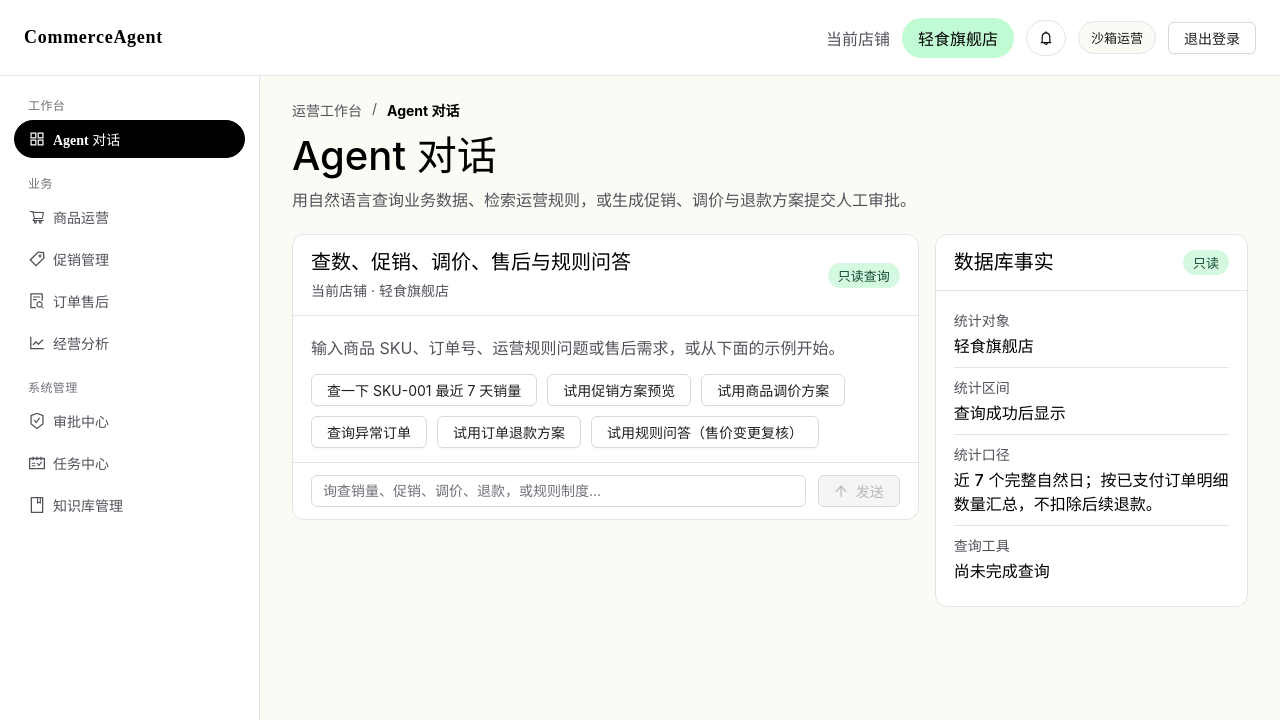
Test: 阶段 5A 调价审批闭环、经营分析与活动复盘 › previews price change plan in Agent workspace and confirms approval submission
The width and height of the screenshot is (1280, 720).
Type "把 SKU-001 常规售价调到 189 元，原因调整冬季常规售价" into the field named "输入查数问题". click: [558, 491]
box: [311,475,806,507]
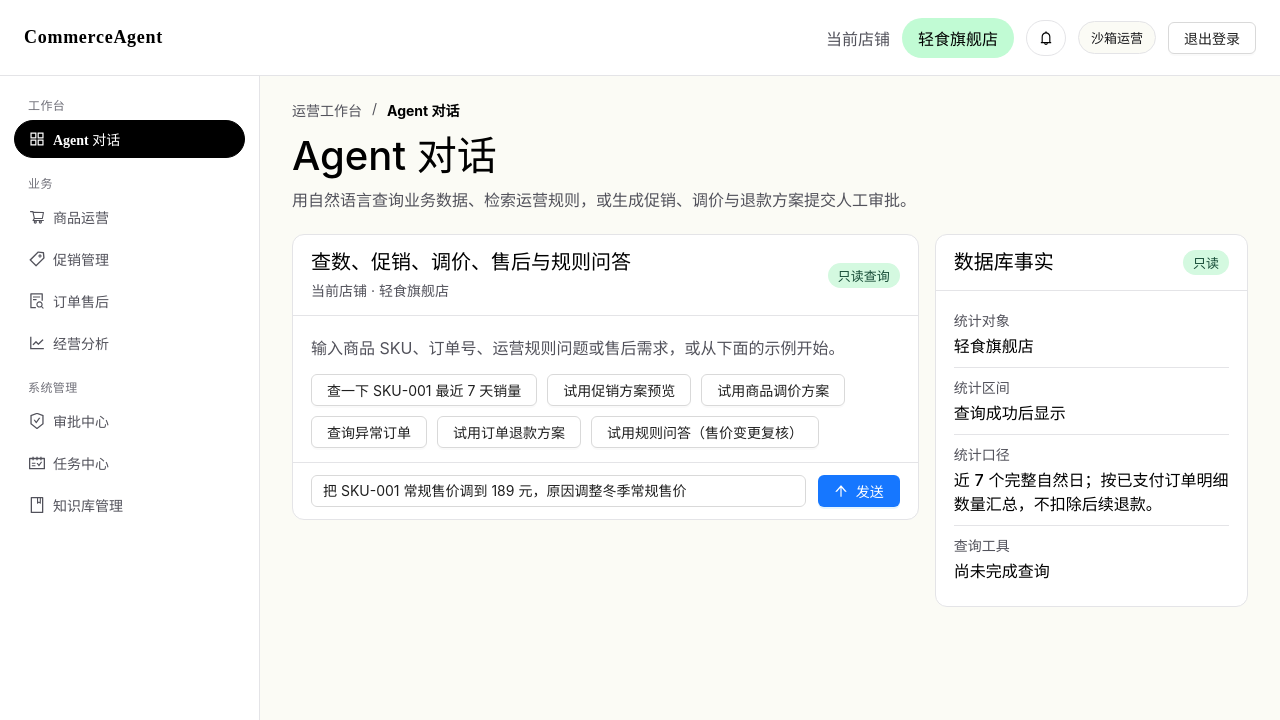
Click the button "发送". click: [859, 491]
box: [818,475,900,507]
(page scrolled)
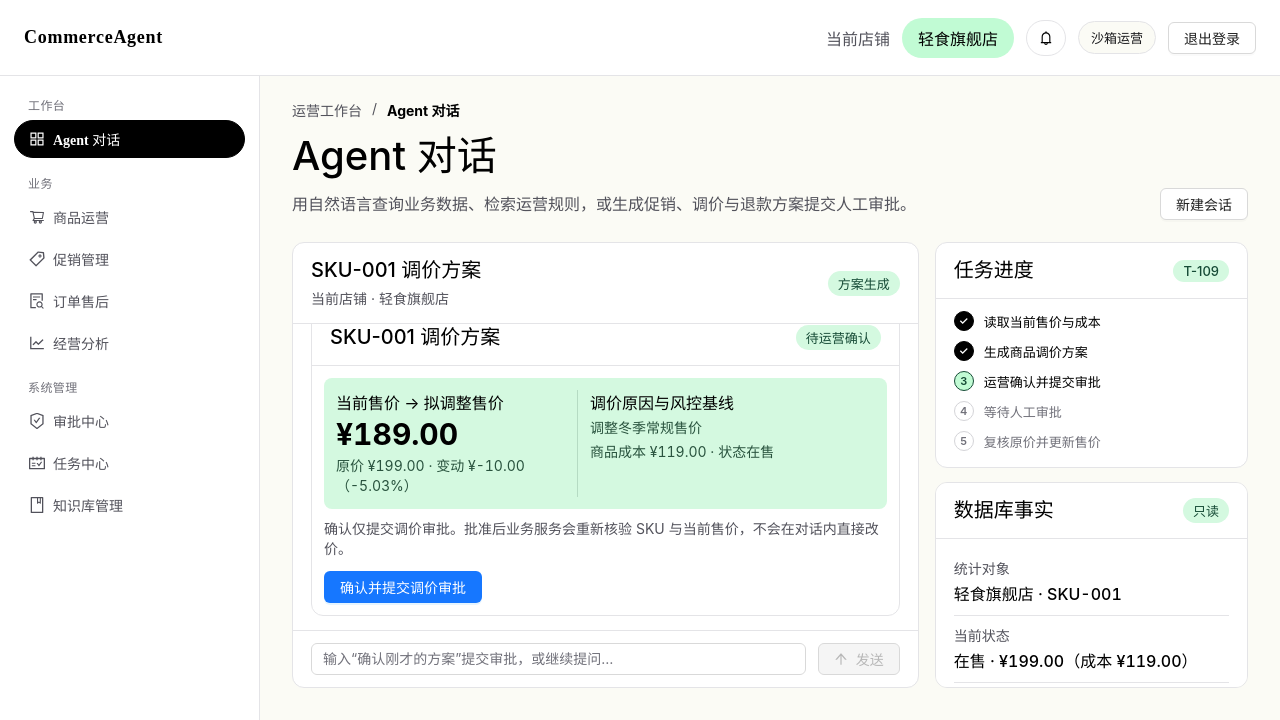
Now the heading "SKU-001 调价方案" in the row of "待运营确认" is shown, box [330,324,500,351]
Click the button "确认并提交调价审批". click: [403, 587]
box: [324,571,482,603]
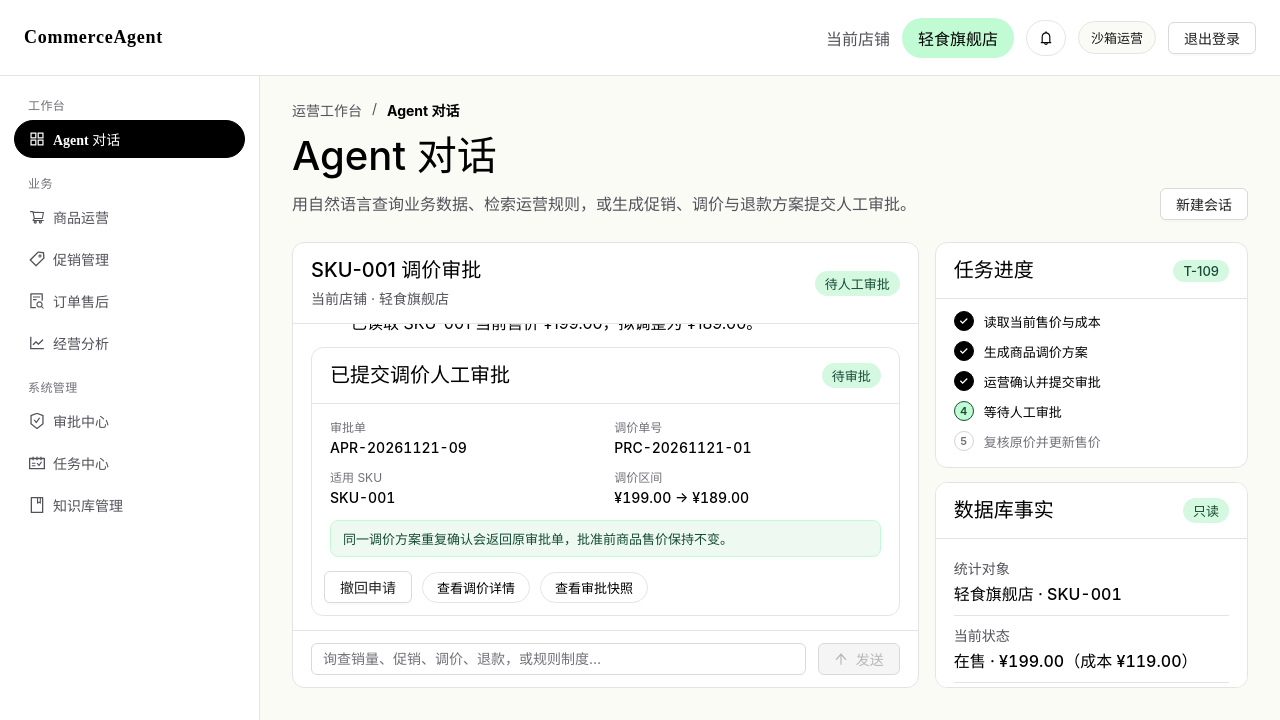
Now the text "APR-20261121-09" is shown, box [330,439,467,456]
Now the text "PRC-20261121-01" is shown, box [614,439,752,456]
